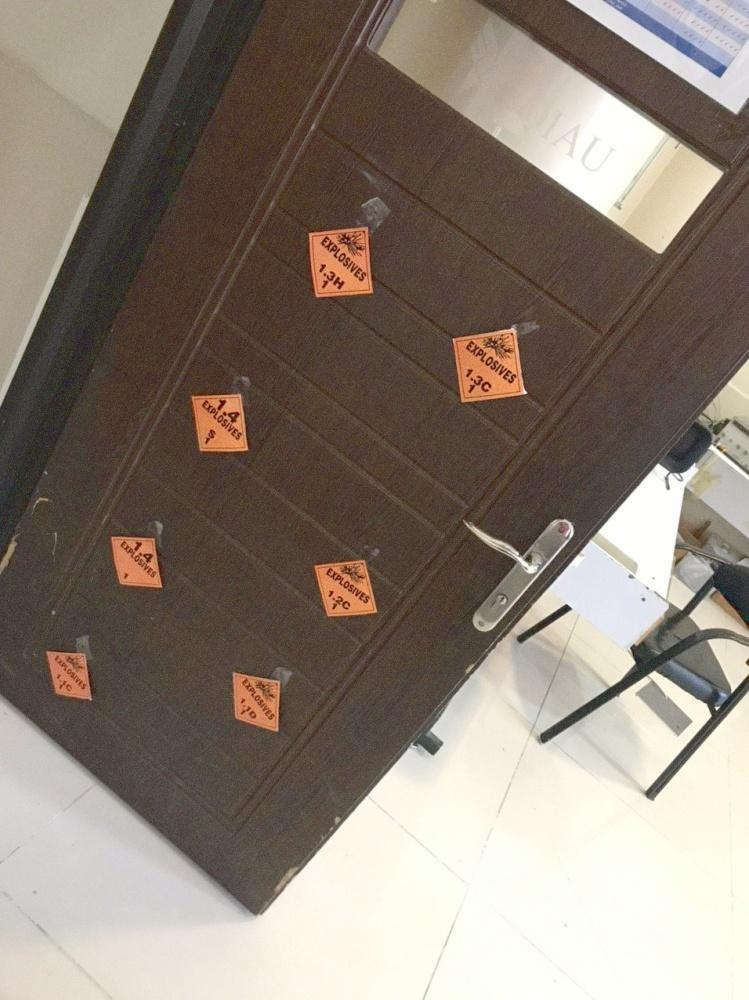explosive: (447, 326, 528, 407), (304, 226, 376, 303), (309, 556, 380, 628), (188, 391, 252, 455), (226, 671, 285, 736), (104, 533, 167, 589), (42, 648, 96, 703)
